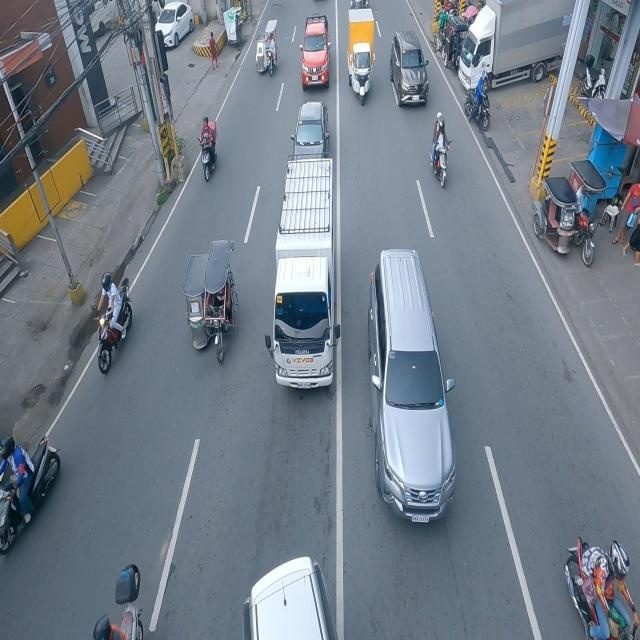Truck: (301, 14, 330, 92)
Van: (274, 162, 336, 389)
